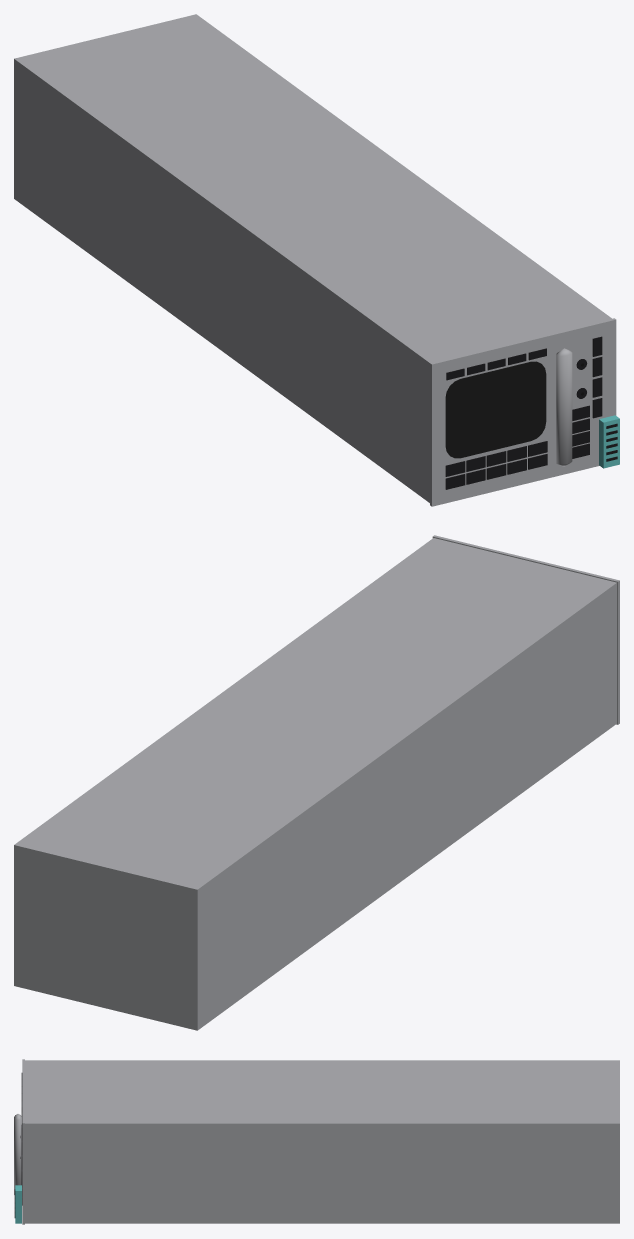
The model's file is PaloAlto-450W-AC-PSU.far.glb.
The picture shows the model from 3 angles, top to bottom: view 1: azimuth 30°, elevation 25°; view 2: azimuth 150°, elevation 25°; view 3: azimuth 270°, elevation 25°; orthographic projection. The views are drawn at different scales.
Visible parts, largest first — view 1: PSU_far; view 2: PSU_far; view 3: PSU_far.
Boxes of the visible parts, x1,y1,x2,y2 form: PSU_far: (14,14,619,506); PSU_far: (14,535,619,1030); PSU_far: (14,1059,619,1224).
Size of the model in its own units: 0.0559 by 0.0412 by 0.2231.
2 materials, 1 textured.
